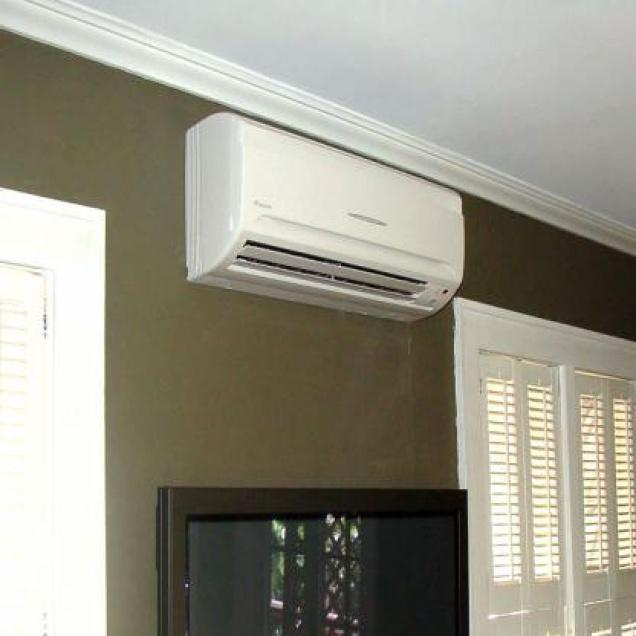AC: (182, 110, 465, 322)
AIO PC-Monitor-TV: (157, 483, 469, 635)
